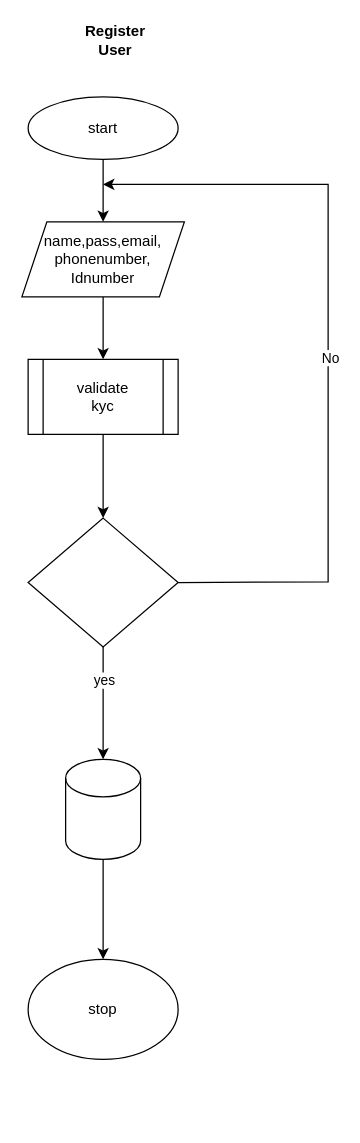
The diagram is 360 pixels wide and 1143 high, and some of its shapes have lost their labels. The centre of each missing label's shape, as x and y in pixels:
"is KYC valid" belongs at point 102,582.
"save KYC" belongs at point 102,808.
